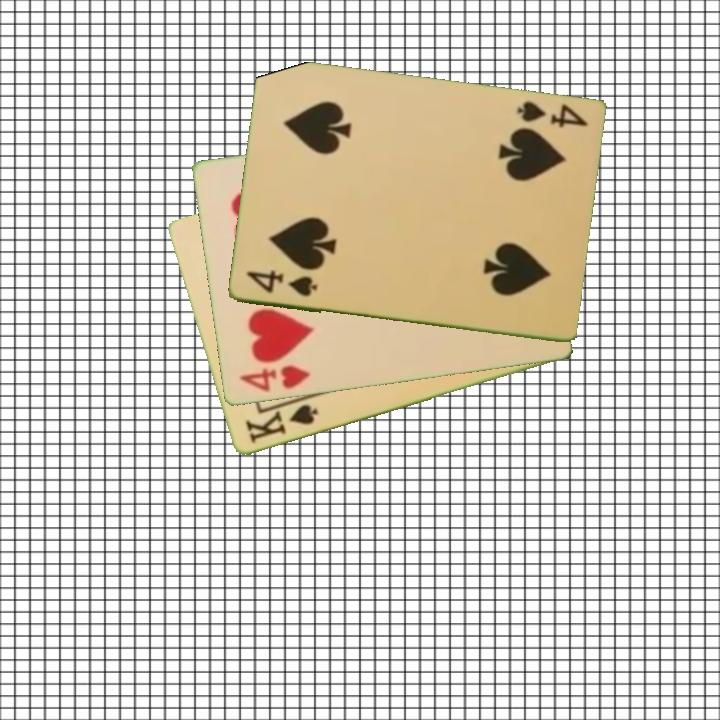4h: (236, 362, 313, 396)
4s: (513, 98, 590, 131), (242, 268, 320, 300)
Ks: (242, 401, 321, 448)
